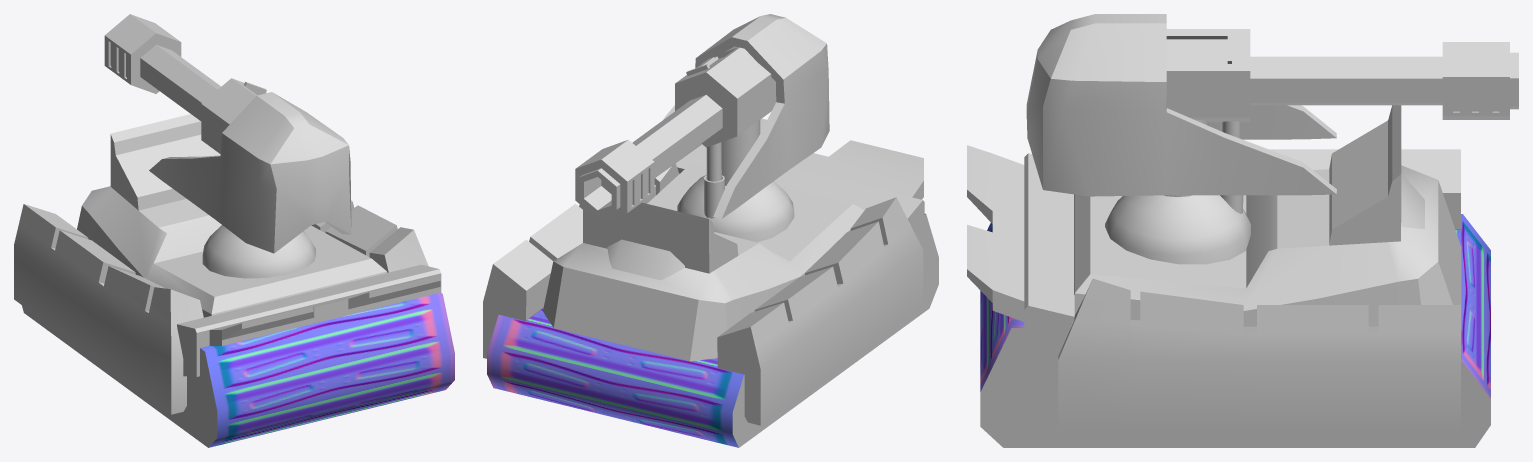
Rendered from Javelin.fbx.
3 renders of one model, left to right at view 1: azimuth 30°, elevation 25°; view 2: azimuth 150°, elevation 25°; view 3: azimuth 270°, elevation 25°, orthographic. The views are drawn at different scales.
Visible parts, largest first — view 1: Javelin, Javelin_Cannon, Javelin.001; view 2: Javelin, Javelin_Cannon, Javelin.001; view 3: Javelin, Javelin_Cannon, Javelin.001.
Part boxes in pixels (x1=…): Javelin: x1=14, y1=114, x2=441, y2=447; Javelin_Cannon: x1=104, y1=14, x2=351, y2=278; Javelin.001: x1=200, y1=292, x2=454, y2=447; Javelin: x1=483, y1=118, x2=938, y2=447; Javelin_Cannon: x1=575, y1=14, x2=829, y2=242; Javelin.001: x1=487, y1=213, x2=925, y2=447; Javelin: x1=967, y1=105, x2=1490, y2=447; Javelin_Cannon: x1=1026, y1=14, x2=1518, y2=264; Javelin.001: x1=980, y1=214, x2=1490, y2=397.
Bounding box in the file's own units: 93 × 92.1 × 129.
